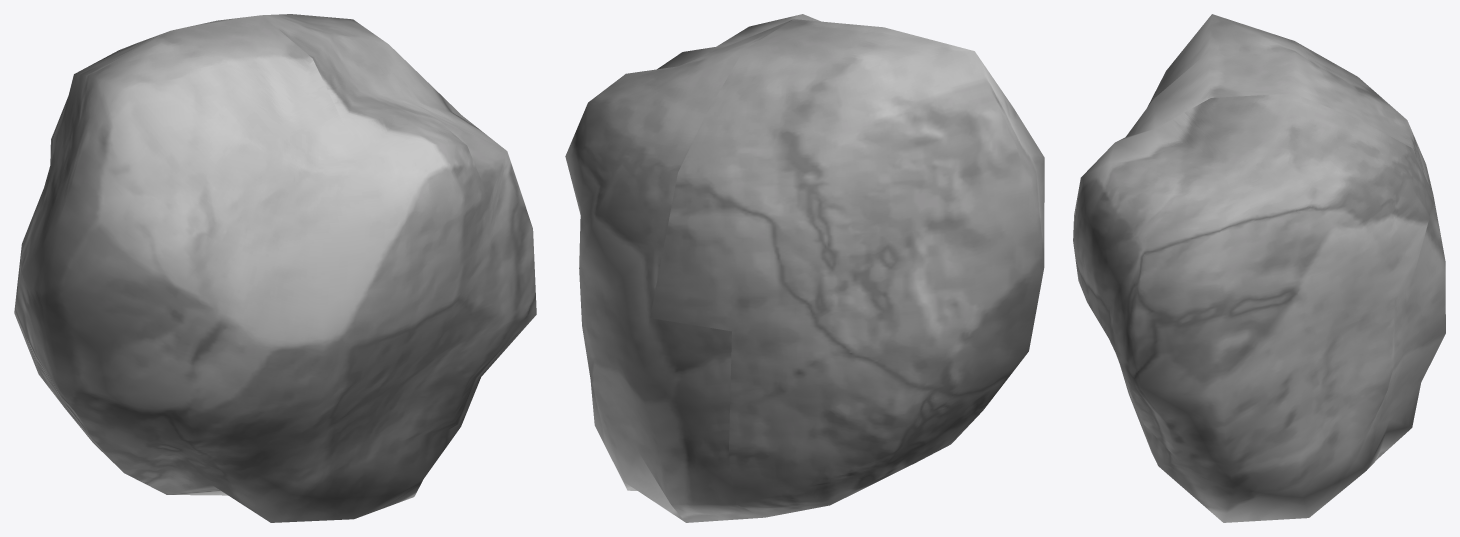
The model's file is asteroid.glb.
The picture shows the model from 3 angles, left to right: view 1: azimuth 30°, elevation 25°; view 2: azimuth 150°, elevation 25°; view 3: azimuth 270°, elevation 25°; orthographic projection. The views are drawn at different scales.
Parts seen in each view (by area): view 1: Object_2; view 2: Object_2; view 3: Object_2.
Boxes of the visible parts, x1,y1,x2,y2 form: Object_2: (14, 14, 536, 522); Object_2: (565, 14, 1044, 522); Object_2: (1073, 14, 1445, 522).
Bounding box in the file's own units: 2.58 × 2.62 × 2.26.
Materials: 1 (1 with a texture image).
